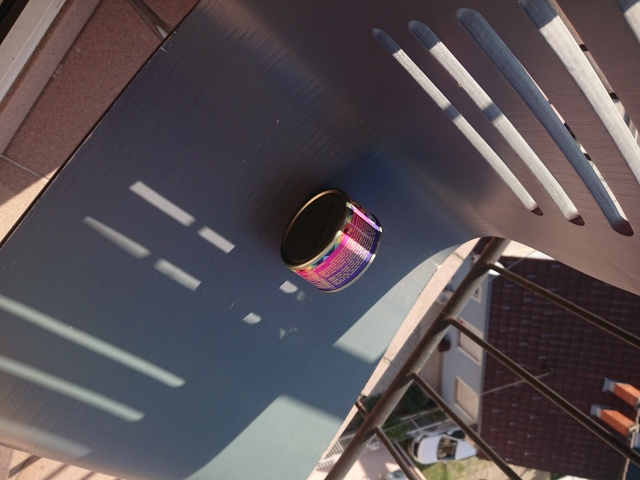Giana Tuna Salad Mexico 185g: (279, 185, 386, 296)
